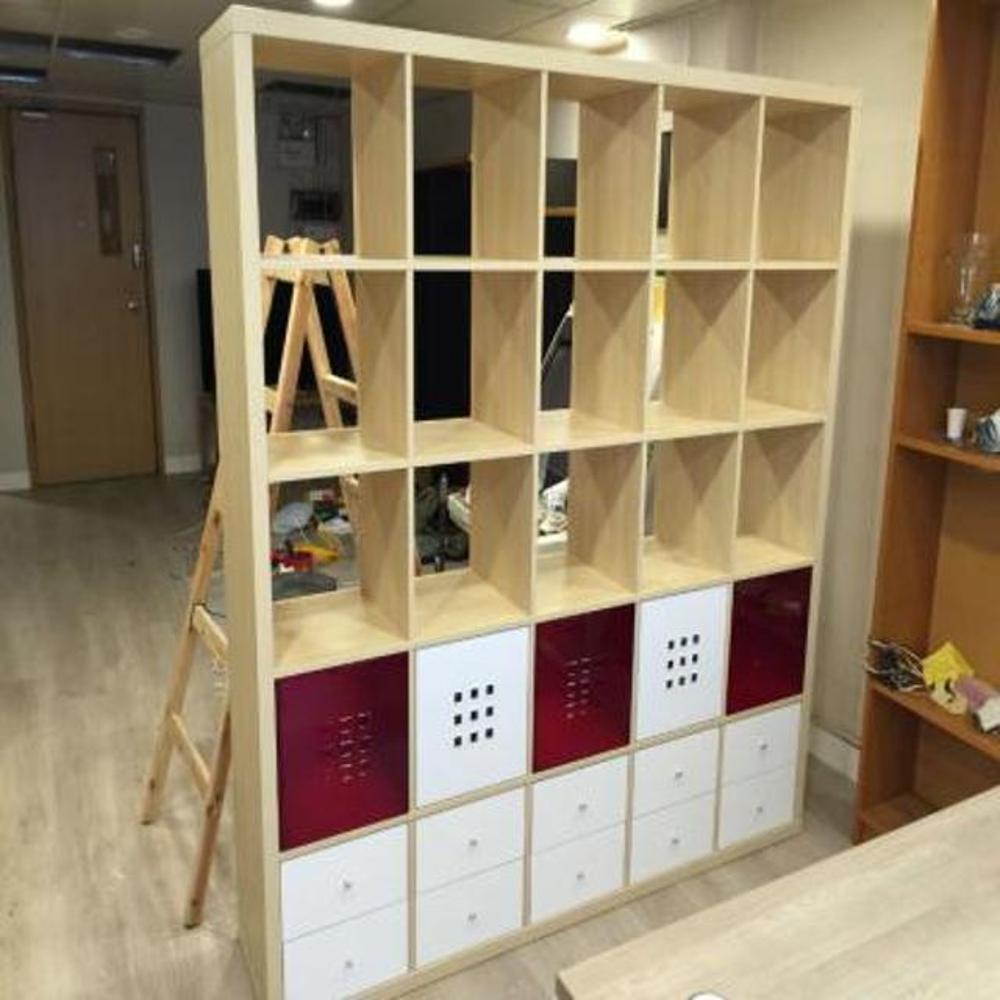lamp: (202, 0, 863, 998)
